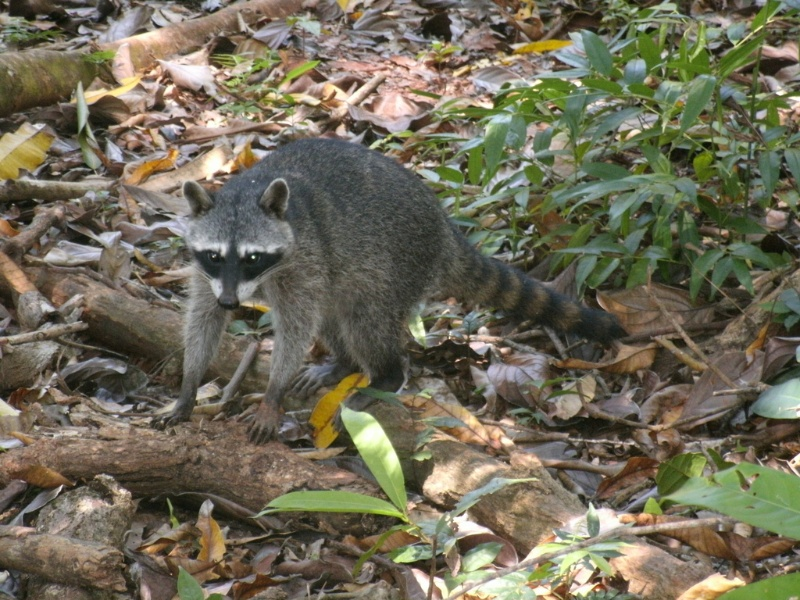raccoon: (148, 131, 626, 443)
